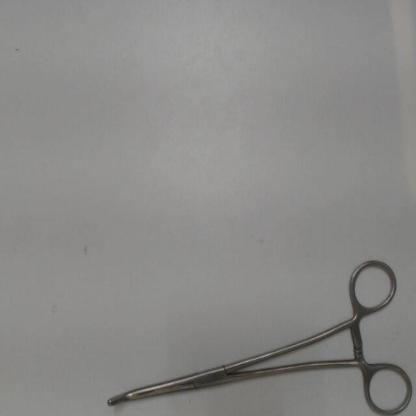Lahey Forceps: (100, 253, 414, 413)
